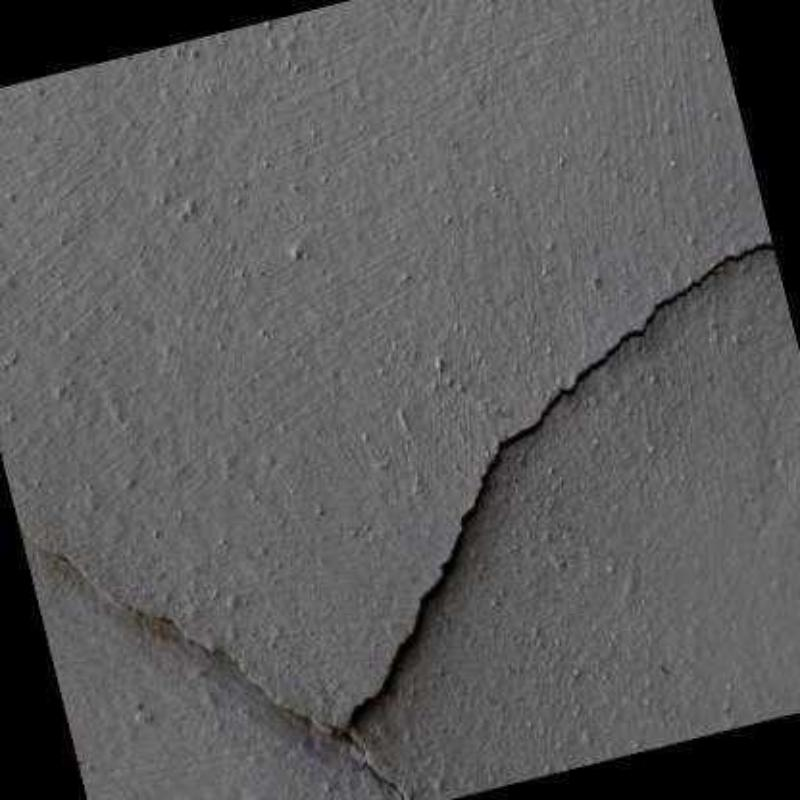pothole: (17, 239, 775, 800)
